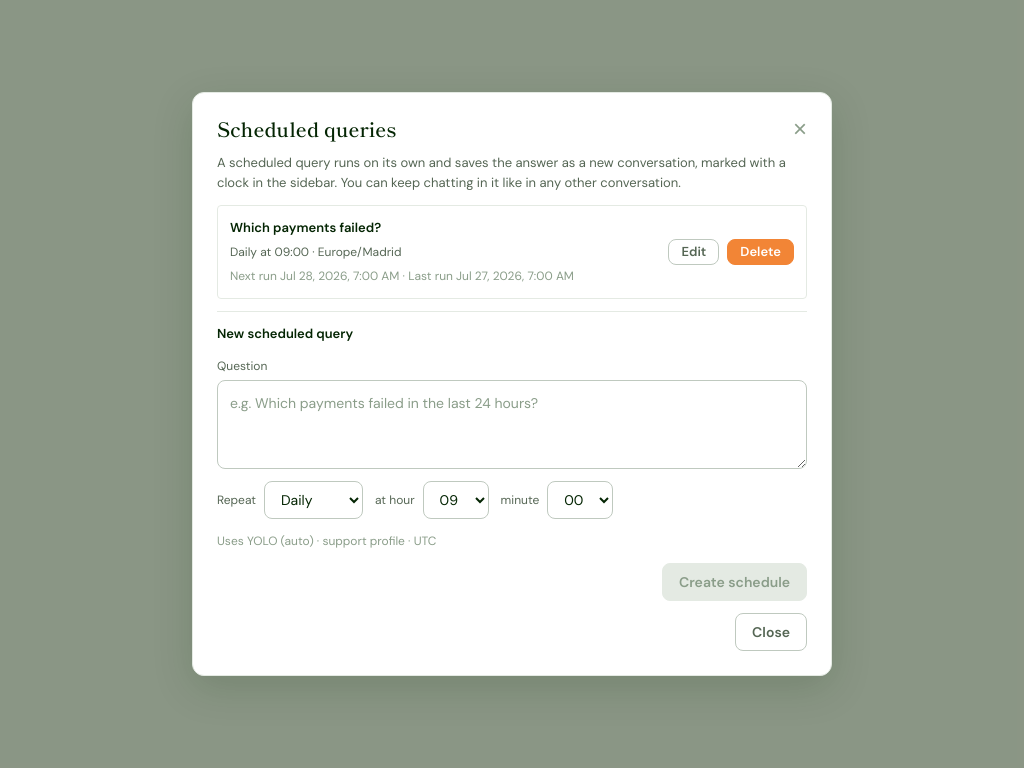
Test: SchedulesModal › edits a schedule in place and returns the form to create mode
Click the button "Edit": (694, 252) [668,239,719,265]
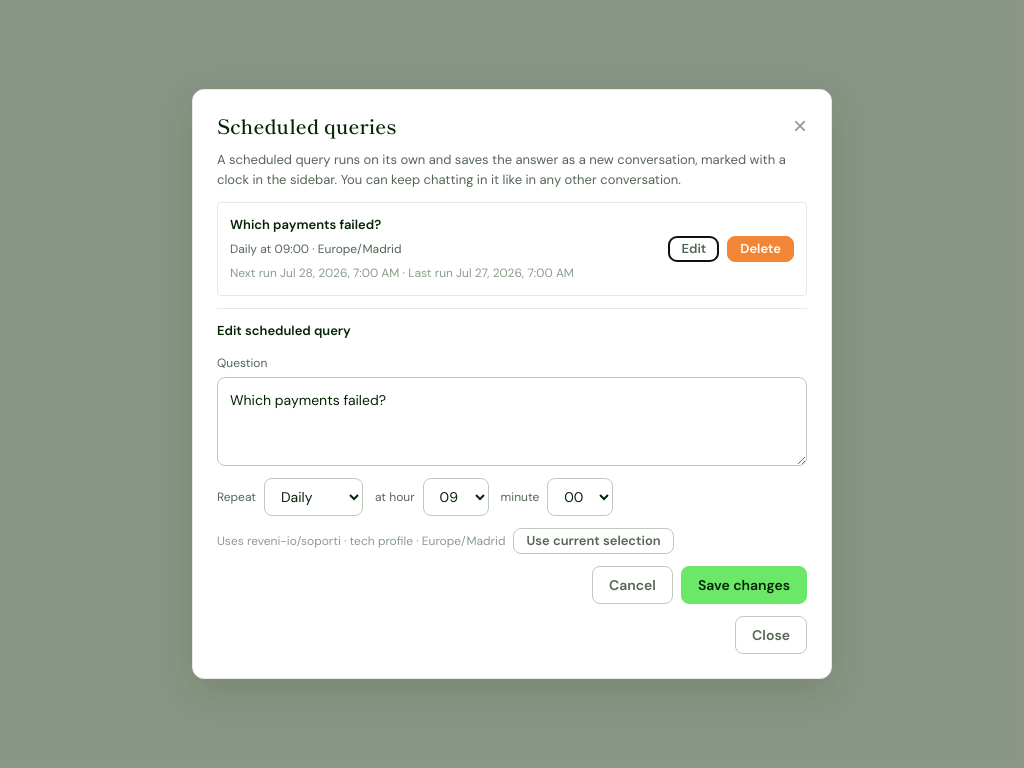
Now the heading "Edit scheduled query" is shown, box [217,322,351,339]
Click the button "Save changes": (744, 585) [681,566,807,604]
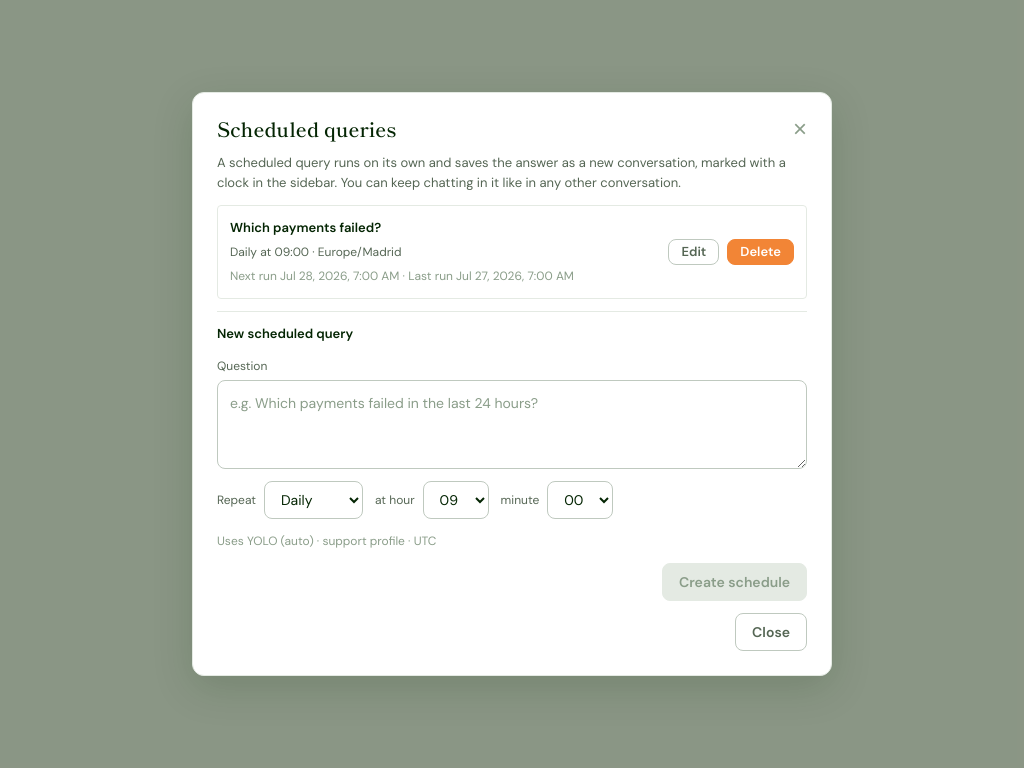
Now the heading "New scheduled query" is shown, box [217,325,353,342]
Now the text box labelled "Question" is empty, box [217,380,807,469]
